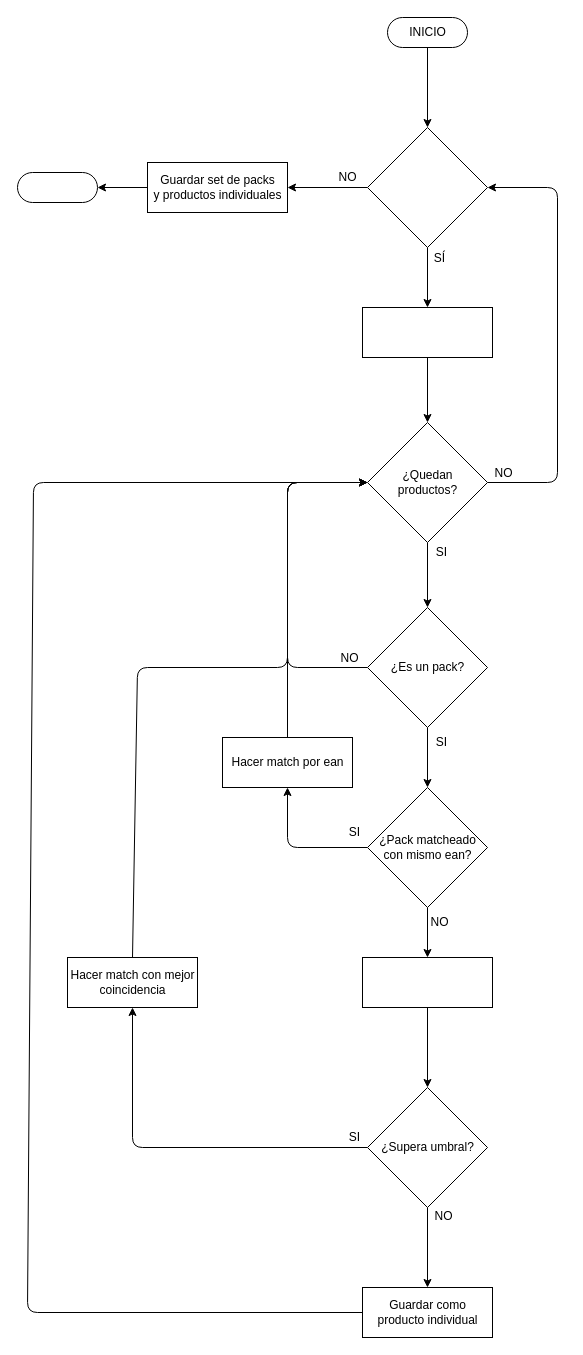
Image size: 583x1355. Some labels were removed from this diagram. Here are the shapes that lost their labels. From the top down, the box of each, then its label:
(16, 172, 98, 202): FIN
(366, 126, 488, 248): ¿Quedan supermercados?
(362, 306, 492, 358): Obtener productos de supermercado
(362, 956, 492, 1008): Evaluar posibles productos individuales
